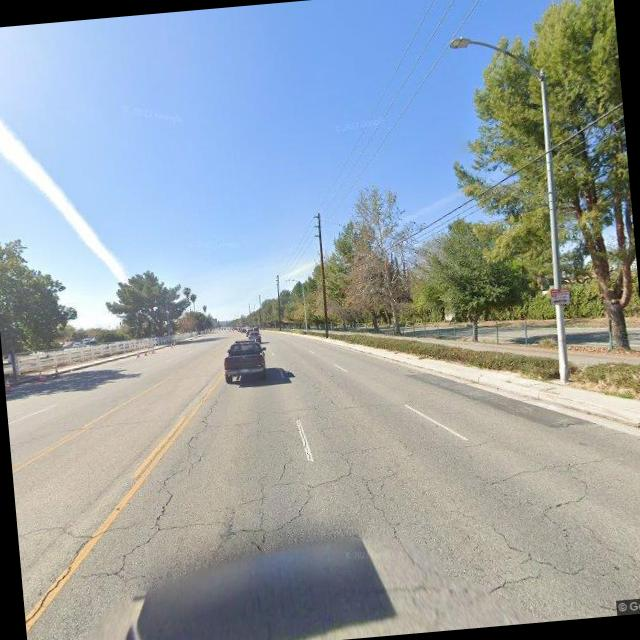crack: (48, 400, 431, 576), (454, 470, 610, 598)
pothole: (81, 388, 236, 582)
